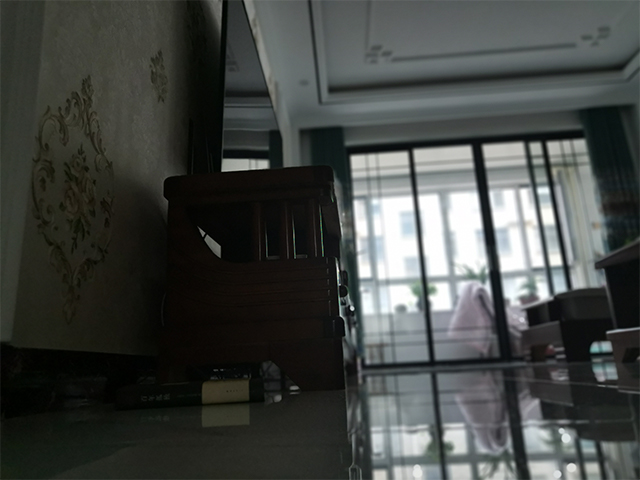book: (112, 374, 267, 414)
cabinet: (155, 163, 367, 393)
curtain: (303, 125, 368, 361)
sofa: (517, 284, 611, 365)
table: (591, 234, 640, 364)
